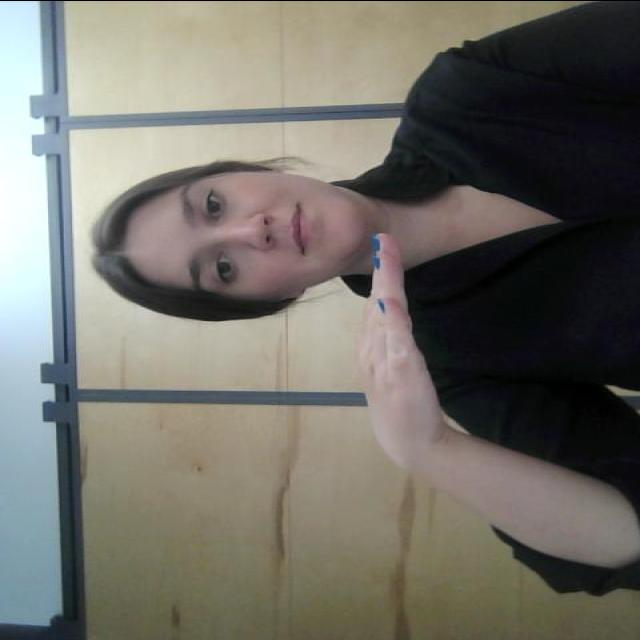Paper: (334, 246, 459, 445)
